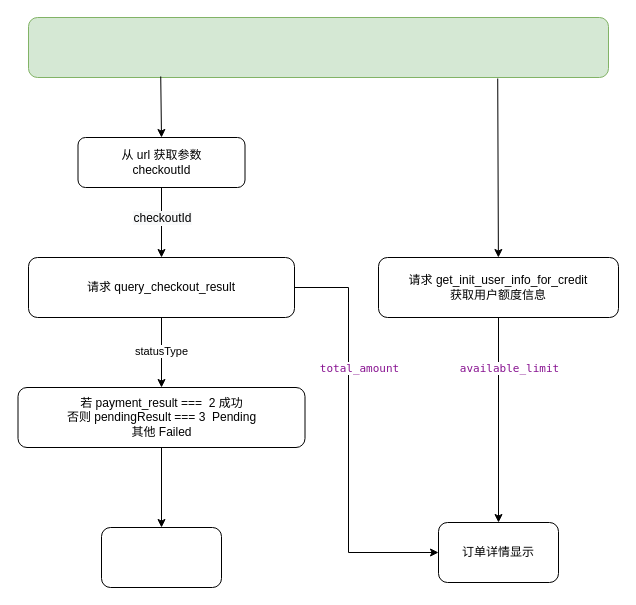
This 636x605 diagram has some shape labels left out. The box of each missing label's shape, as (x1, y1, x2, y2) in pixels:
pay/result 页面: (28, 16, 608, 78)
页面头部颜色及文案: (100, 526, 222, 588)
